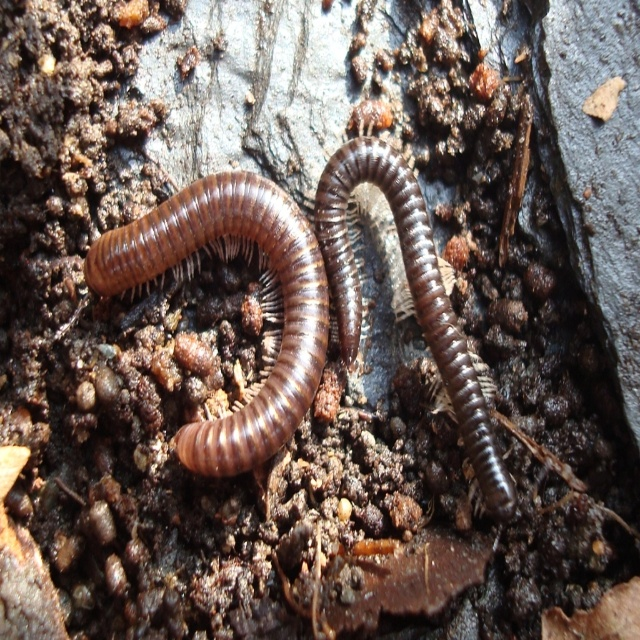Centipede: (314, 118, 553, 555), (84, 170, 330, 477)
